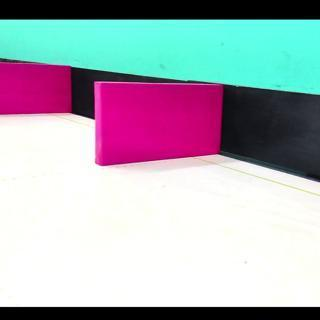xparking: (99, 84, 223, 164), (1, 66, 69, 115)
